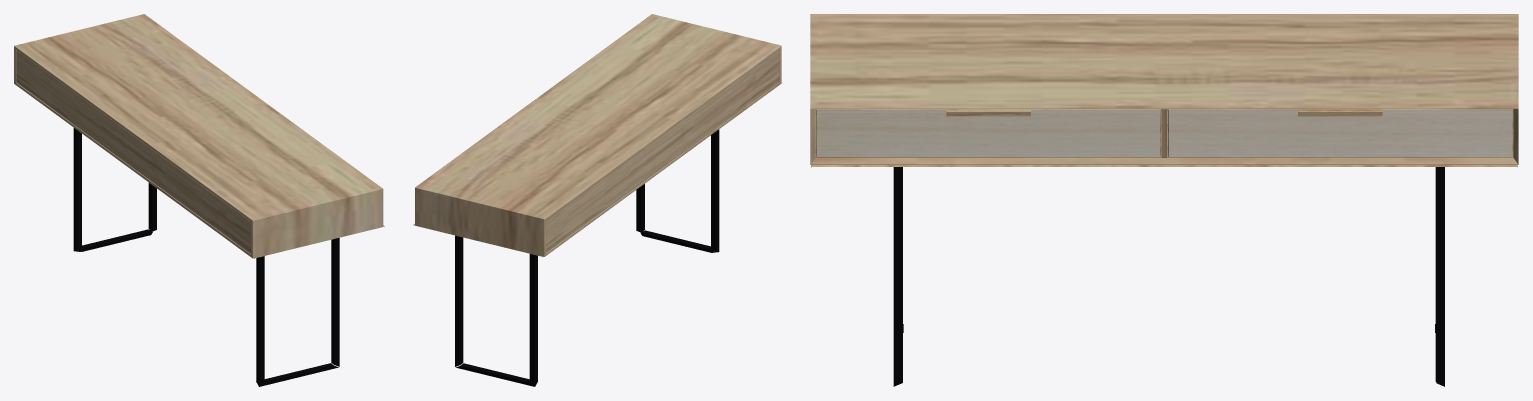
The model's file is mesa.obj.
3 views of the same model, side by side, from view 1: azimuth 30°, elevation 25°; view 2: azimuth 150°, elevation 25°; view 3: azimuth 270°, elevation 25° (orthographic). The views are drawn at different scales.
Parts seen in each view (by area): view 1: polySurface4polySurface2MeshpolySurface6, MeshpolySurface1; view 2: polySurface4polySurface2MeshpolySurface6, MeshpolySurface1; view 3: polySurface4polySurface2MeshpolySurface6, polySurface2MeshpolySurface3, polySurface5polySurface4polySurface2Mesh, MeshpolySurface1.
Boxes of the visible parts, box(x1,y1,x2,y2) form: polySurface4polySurface2MeshpolySurface6: box(14, 14, 384, 258); MeshpolySurface1: box(73, 128, 339, 386); polySurface4polySurface2MeshpolySurface6: box(413, 14, 781, 256); MeshpolySurface1: box(455, 129, 719, 386); polySurface4polySurface2MeshpolySurface6: box(810, 14, 1518, 167); polySurface2MeshpolySurface3: box(817, 110, 1159, 156); polySurface5polySurface4polySurface2Mesh: box(1169, 110, 1511, 156); MeshpolySurface1: box(893, 167, 1444, 386).
Bounding box in the file's own units: 0.7408 × 1.04 × 2.31.
3 materials, 3 textured.
